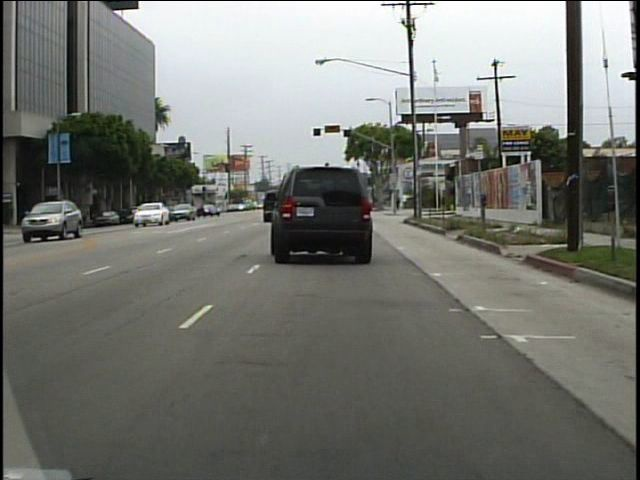person: (391, 189, 402, 214), (401, 190, 409, 211)
